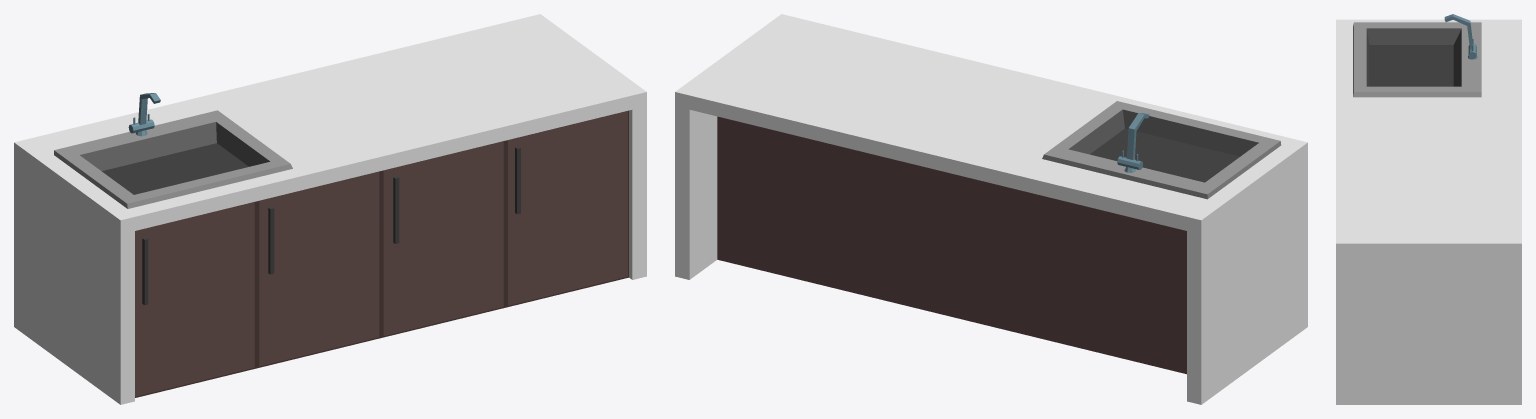
File: kitchen_item_018.glb
The picture shows the model from 3 angles, left to right: view 1: azimuth 30°, elevation 25°; view 2: azimuth 150°, elevation 25°; view 3: azimuth 270°, elevation 25°; orthographic projection. The views are drawn at different scales.
Visible parts, largest first — view 1: kitchen_item_018; view 2: kitchen_item_018; view 3: kitchen_item_018.
Part boxes in pixels (x1,y1,x2,y2): kitchen_item_018: (14, 14, 646, 404); kitchen_item_018: (675, 14, 1307, 404); kitchen_item_018: (1336, 14, 1521, 404).
Size of the model in its own units: 2.38 by 1.03 by 0.8332.
Materials: 1 (1 with a texture image).
